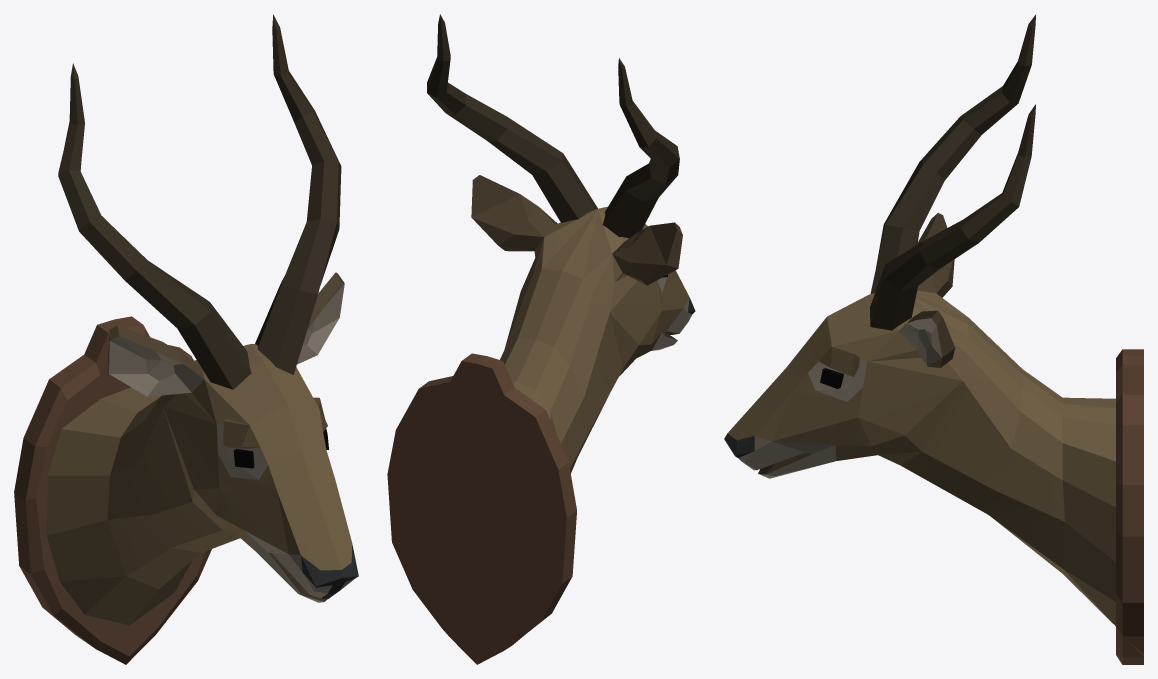
The model's file is SM_Prop_Hunting_Animal_Head_02.obj.
The picture shows the model from 3 angles, left to right: view 1: azimuth 30°, elevation 25°; view 2: azimuth 150°, elevation 25°; view 3: azimuth 270°, elevation 25°; orthographic projection. The views are drawn at different scales.
Visible parts, largest first — view 1: SM_Prop_Hunting_Animal_Head_02_0; view 2: SM_Prop_Hunting_Animal_Head_02_0; view 3: SM_Prop_Hunting_Animal_Head_02_0.
Part boxes in pixels (left/top/right/bottom): SM_Prop_Hunting_Animal_Head_02_0: left=14, top=14, right=358, bottom=664; SM_Prop_Hunting_Animal_Head_02_0: left=387, top=14, right=695, bottom=664; SM_Prop_Hunting_Animal_Head_02_0: left=724, top=14, right=1143, bottom=664.
Size of the model in its own units: 0.6346 by 1.53 by 0.9583.
1 material, 1 textured.
